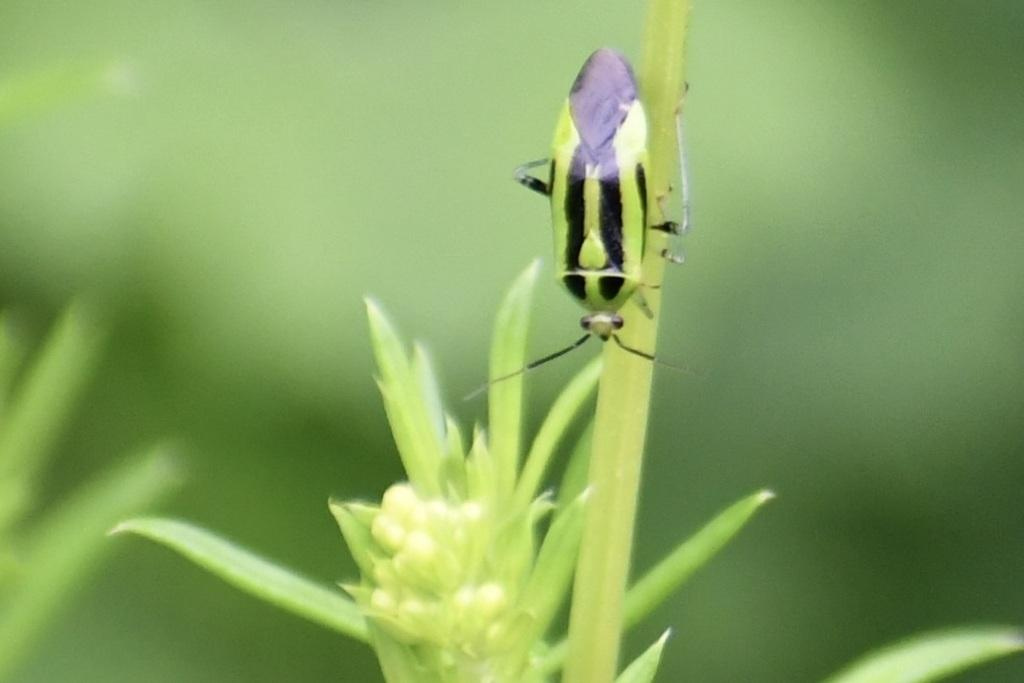plant_bugs: (431, 3, 763, 455)
